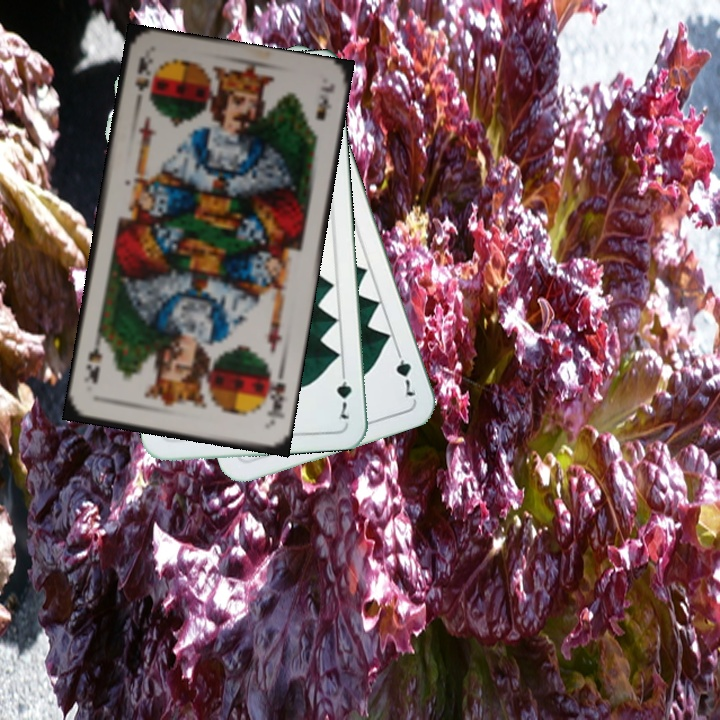G7: (391, 343, 418, 399), (332, 364, 354, 423)
SK: (261, 367, 289, 427), (131, 51, 156, 94)
